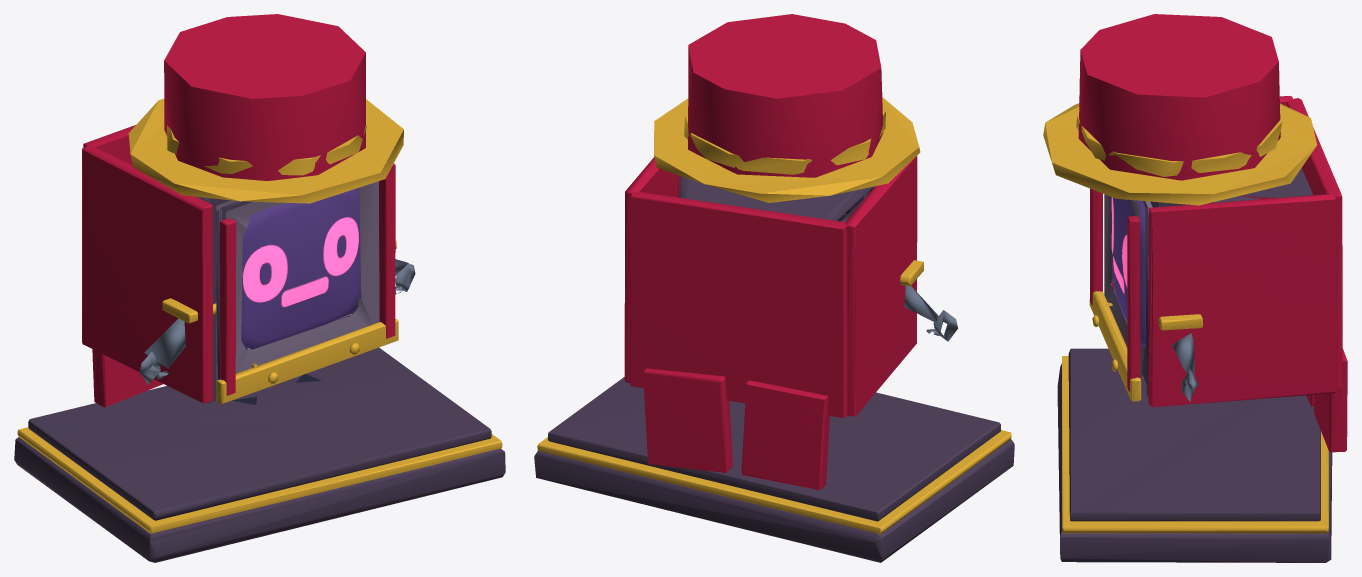
Rendered from kart.outfit.ringmaster.lod1.glb.
3 renders of one model, left to right at view 1: azimuth 30°, elevation 25°; view 2: azimuth 150°, elevation 25°; view 3: azimuth 270°, elevation 25°, orthographic. The views are drawn at different scales.
Visible parts, largest first — view 1: display_top, top_hat_crown, jacket_side.001, stand_identity_face, display_base, emi_teacup_mesh, top_hat_brim, brass_band, waist_band, front_open_edge.001, front_open_edge, tailcoat_tail.001 (+2 smaller); view 2: jacket_back, top_hat_crown, display_top, display_base, jacket_side.001, top_hat_brim, tailcoat_tail, tailcoat_tail.001, brass_band, emi_teacup_mesh, hat_band, jacket_side; view 3: jacket_side, display_top, top_hat_crown, top_hat_brim, display_base, brass_band, emi_teacup_mesh, jacket_back, stand_identity_face, hat_band, front_open_edge, tailcoat_tail (+3 smaller).
Boxes of the visible parts, x1,y1,x2,y2 form: display_top: [28, 347, 491, 520]; top_hat_crown: [164, 14, 365, 180]; jacket_side.001: [82, 145, 212, 403]; stand_identity_face: [241, 188, 361, 349]; display_base: [14, 437, 505, 562]; emi_teacup_mesh: [140, 181, 415, 404]; top_hat_brim: [128, 99, 403, 203]; brass_band: [17, 427, 502, 533]; waist_band: [216, 319, 398, 403]; front_open_edge.001: [219, 218, 236, 395]; front_open_edge: [379, 163, 395, 338]; tailcoat_tail.001: [92, 349, 163, 407]; jacket_back: [629, 191, 847, 417]; top_hat_crown: [688, 14, 883, 177]; display_top: [548, 377, 1000, 521]; display_base: [534, 439, 1014, 562]; jacket_side.001: [845, 156, 917, 416]; top_hat_brim: [653, 97, 920, 202]; tailcoat_tail: [643, 368, 732, 472]; tailcoat_tail.001: [741, 380, 829, 489]; brass_band: [537, 430, 1011, 534]; emi_teacup_mesh: [678, 175, 957, 341]; hat_band: [684, 109, 885, 174]; jacket_side: [624, 157, 680, 382]; jacket_side: [1148, 194, 1336, 407]; display_top: [1068, 348, 1320, 521]; top_hat_crown: [1078, 14, 1280, 180]; top_hat_brim: [1043, 103, 1316, 205]; display_base: [1057, 363, 1332, 562]; brass_band: [1062, 356, 1328, 533]; emi_teacup_mesh: [1104, 168, 1312, 401]; jacket_back: [1287, 98, 1342, 389]; stand_identity_face: [1111, 197, 1147, 346]; hat_band: [1076, 115, 1282, 176]; front_open_edge: [1127, 216, 1140, 391]; tailcoat_tail: [1314, 348, 1347, 452].
Size of the model in its own units: 0.642 by 0.7276 by 0.4774.
4 materials, 2 textured.
